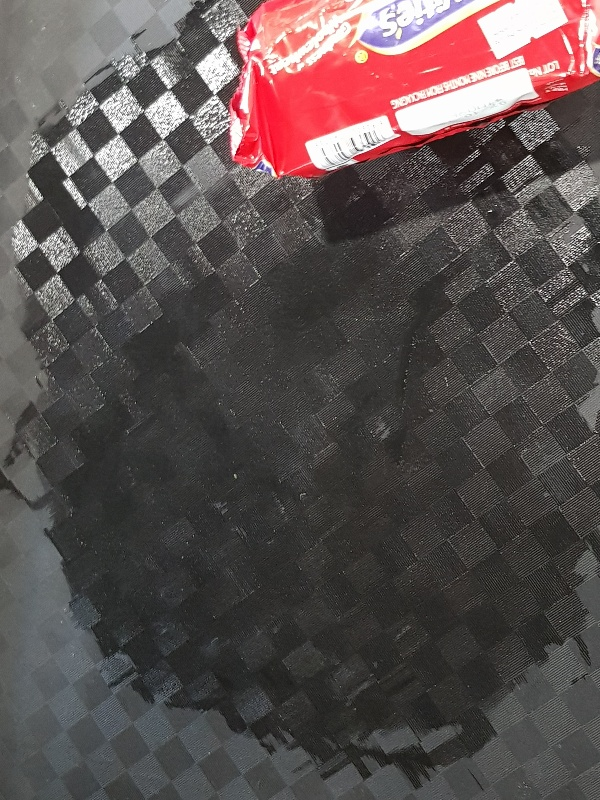Mcvitie's Digestive: (227, 1, 600, 180)
